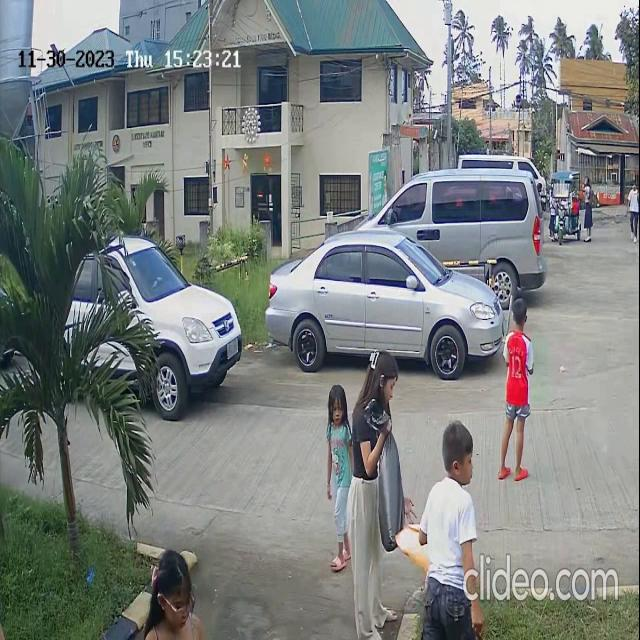garbage: (368, 404, 406, 554)
person: (355, 348, 395, 553), (438, 423, 478, 588), (503, 297, 532, 398), (321, 385, 354, 473), (158, 557, 192, 640)
